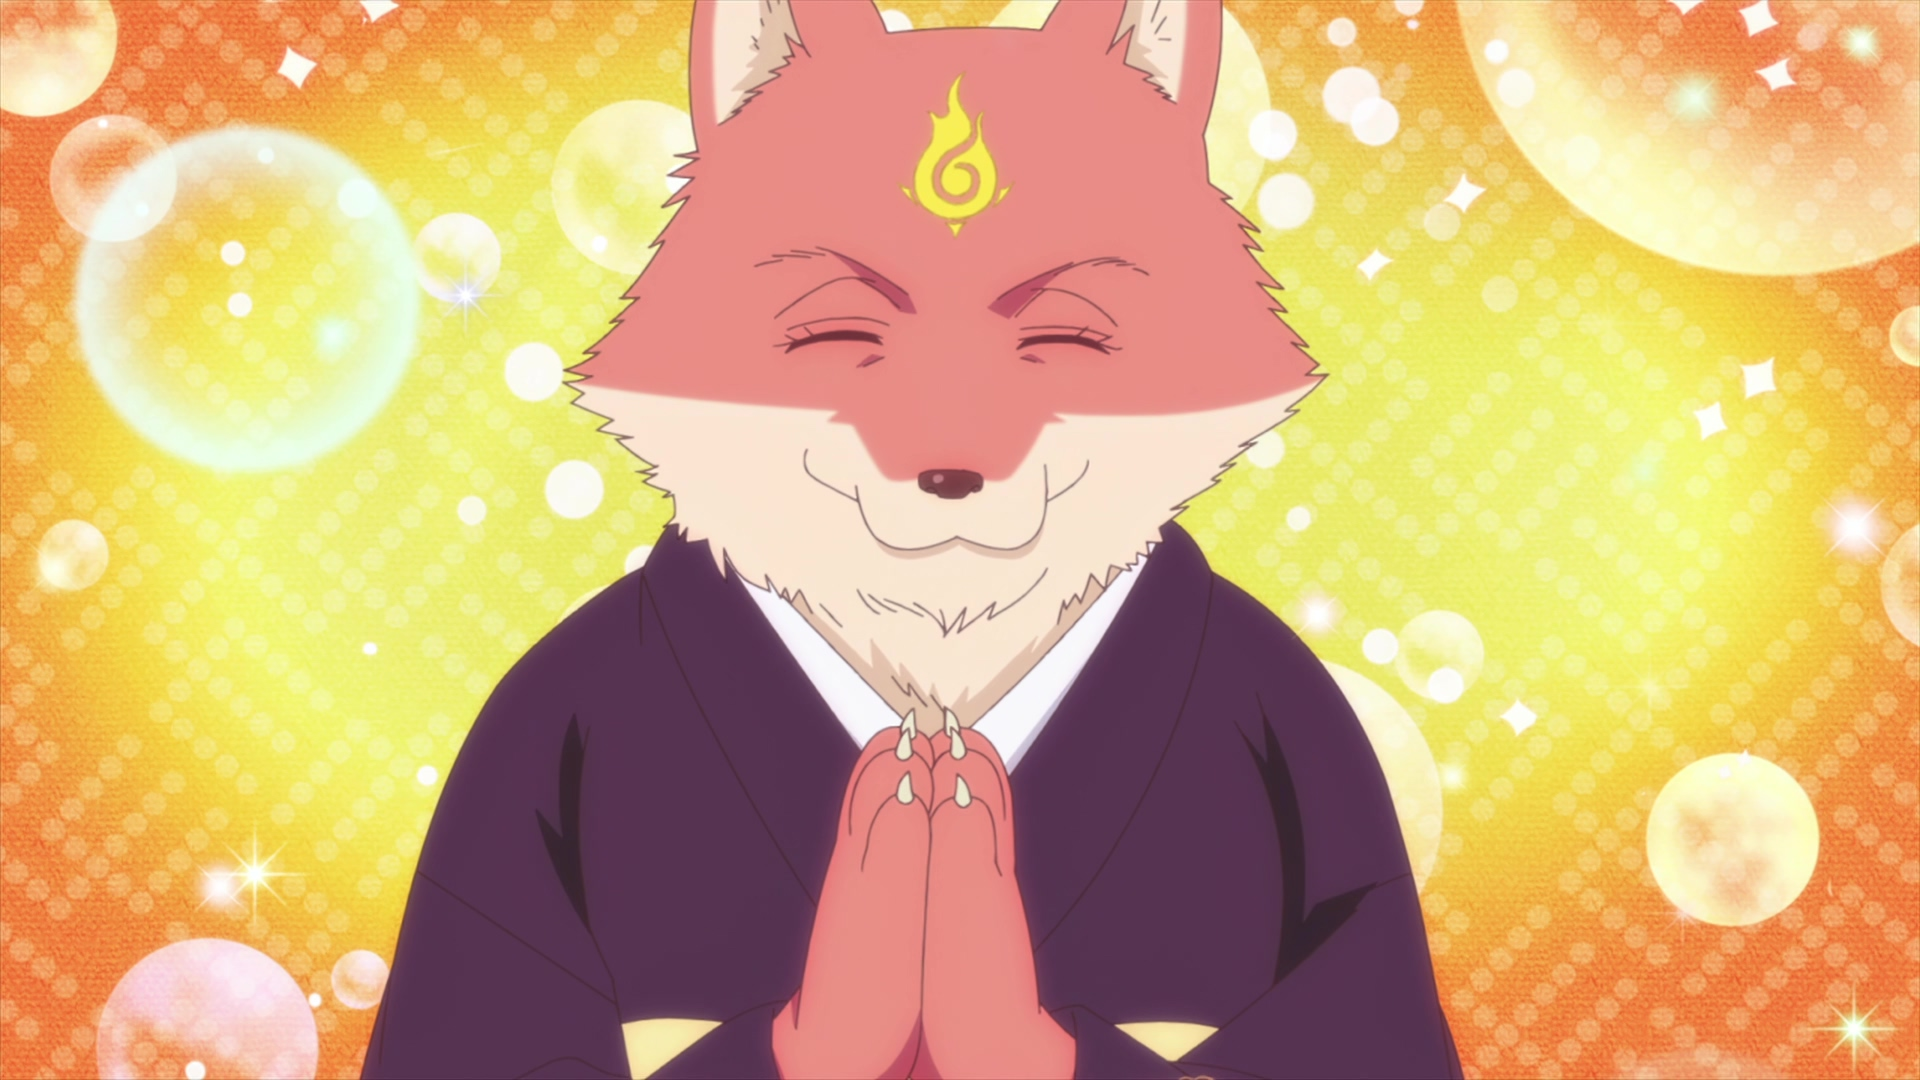椿: (363, 1, 1462, 1080)
